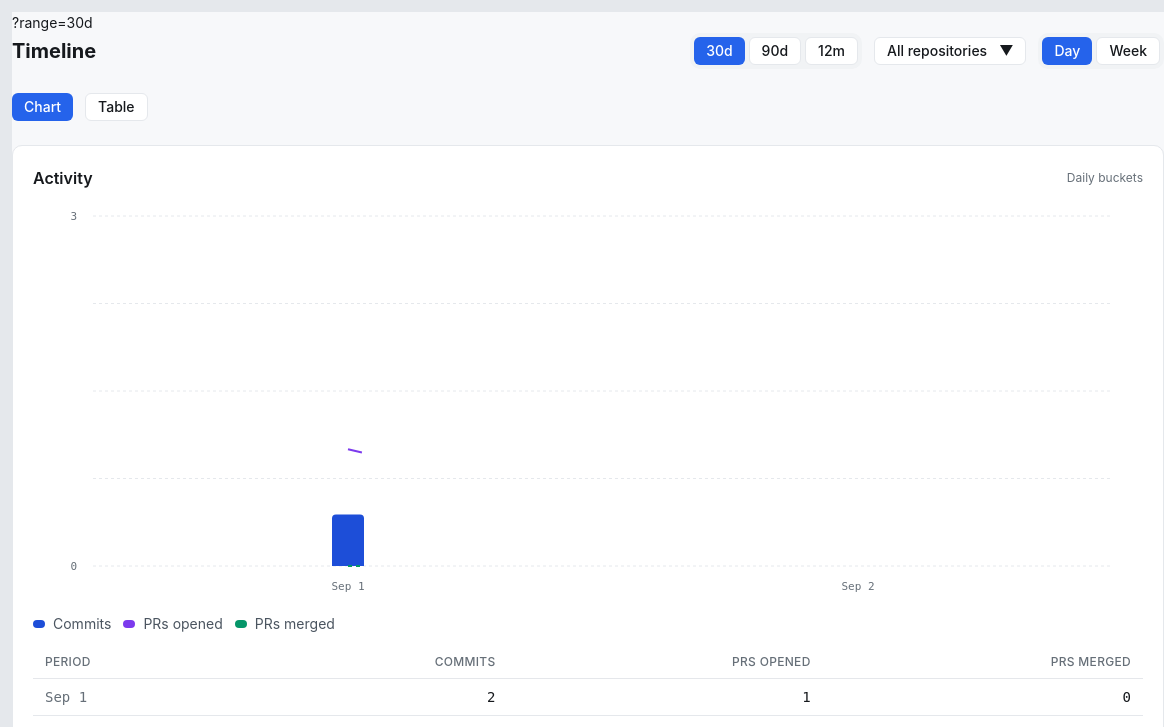
it: Timeline URL synchronization (T5.2) › changing the granularity updates the URL
Expected: the element named "Granularity" is shown, top-left (1038, 33), bottom-right (1163, 69)
Click the button "Week": (1128, 51) top-left (1096, 37), bottom-right (1160, 65)
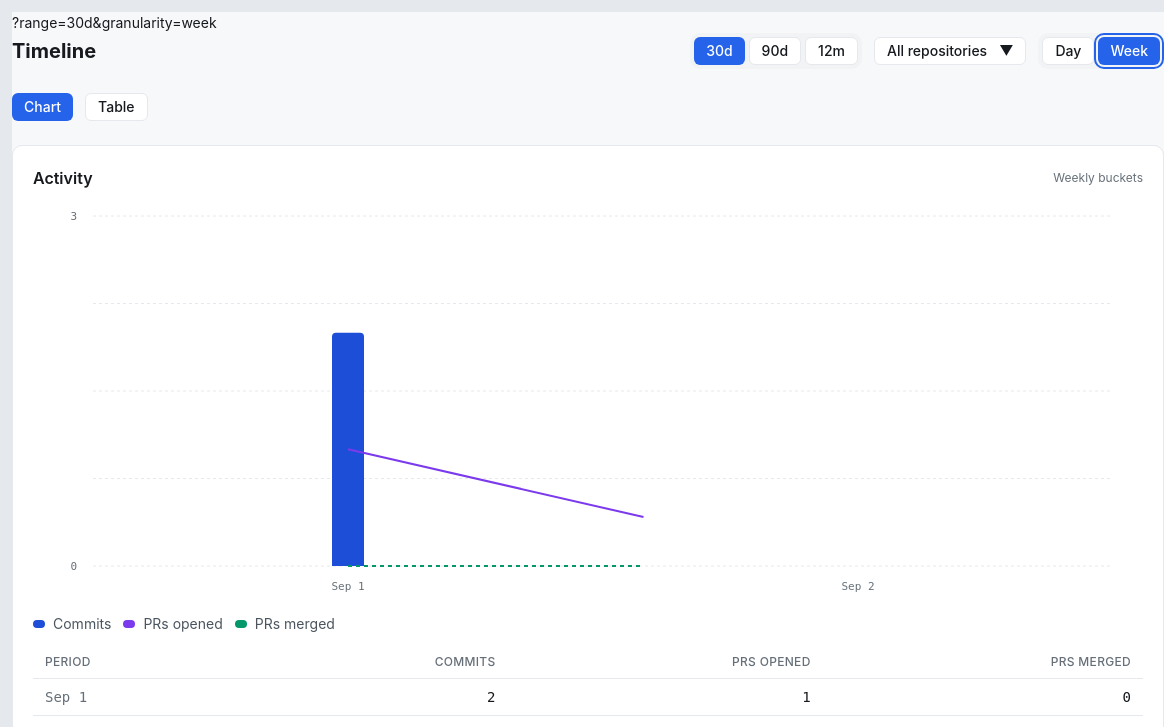
Expected: the text with test id "router-search" shows "granularity=week", top-left (12, 14), bottom-right (217, 31)
